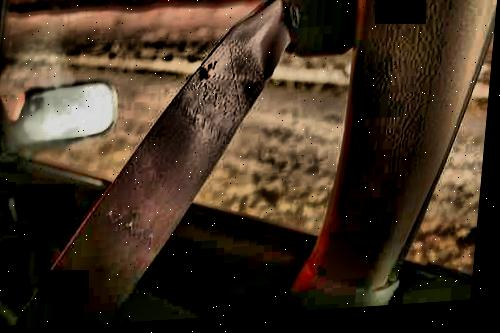seatbelt: (69, 15, 305, 272)
